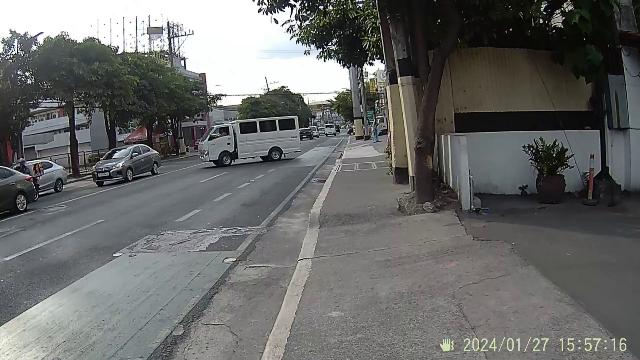car: (92, 140, 162, 184), (323, 122, 341, 138)
potted_plant: (530, 134, 572, 206)
tree: (412, 84, 446, 212), (383, 70, 417, 186), (64, 88, 84, 180), (350, 81, 368, 139)
